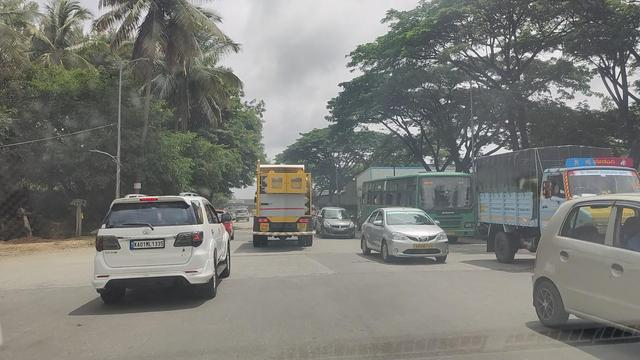HMV: (253, 164, 313, 243)
LMV: (92, 195, 229, 295)
RoadDamages: (252, 260, 340, 283)
